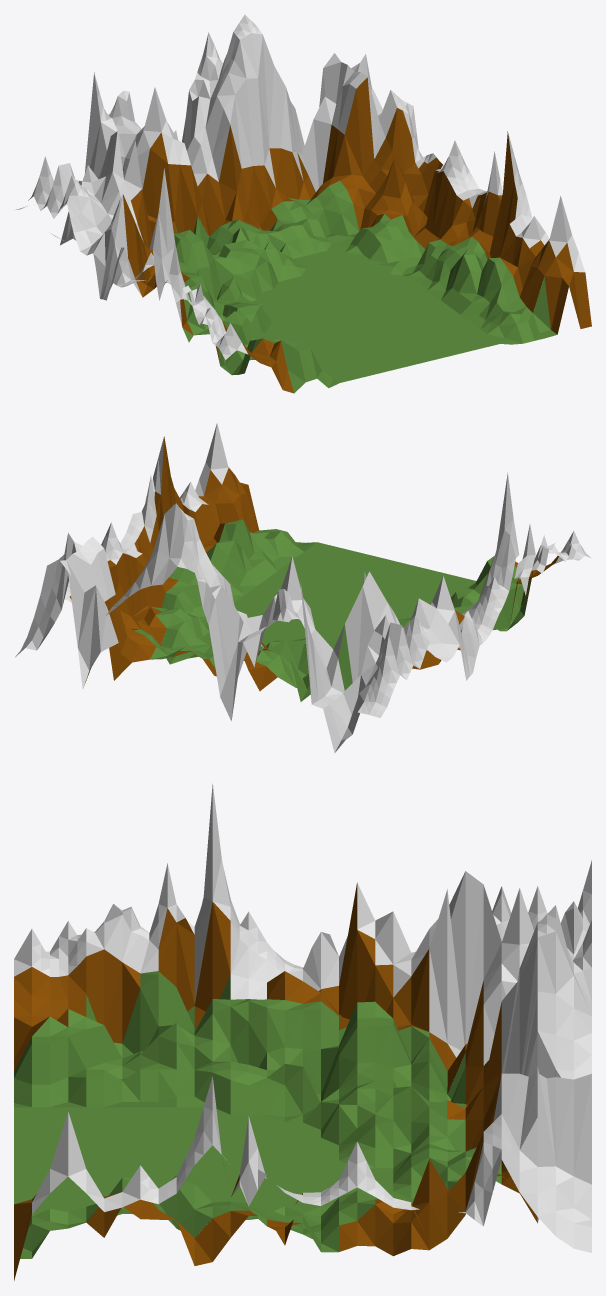
The picture shows the model from 3 angles, top to bottom: view 1: azimuth 30°, elevation 25°; view 2: azimuth 150°, elevation 25°; view 3: azimuth 270°, elevation 25°; orthographic projection. The views are drawn at different scales.
Parts seen in each view (by area): view 1: Terrain_Plane.001; view 2: Terrain_Plane.001; view 3: Terrain_Plane.001.
Part boxes in pixels (box(x1,y1,x2,y2)): Terrain_Plane.001: box(14, 14, 591, 393); Terrain_Plane.001: box(15, 423, 591, 752); Terrain_Plane.001: box(14, 783, 591, 1280).
Bounding box in the file's own units: 300 × 159 × 300.
